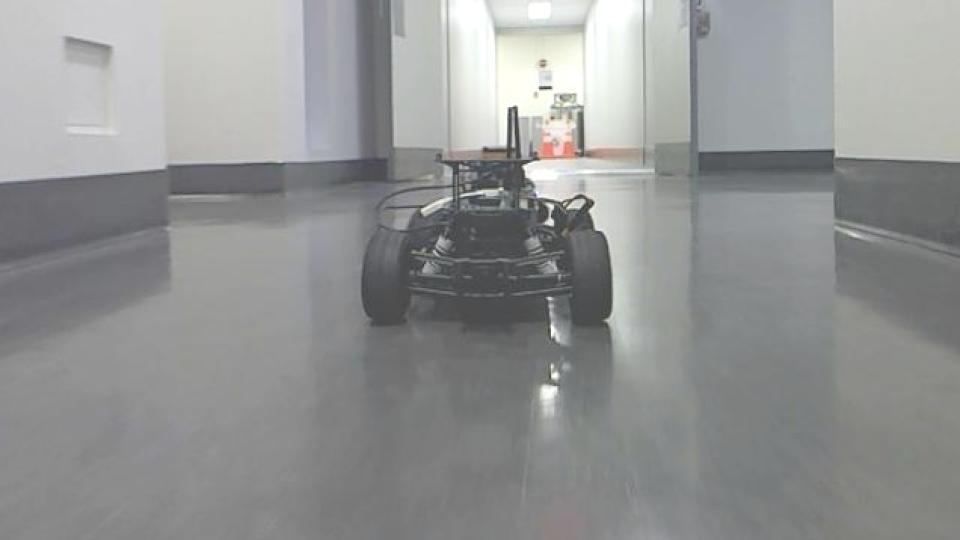car: (356, 102, 616, 329)
